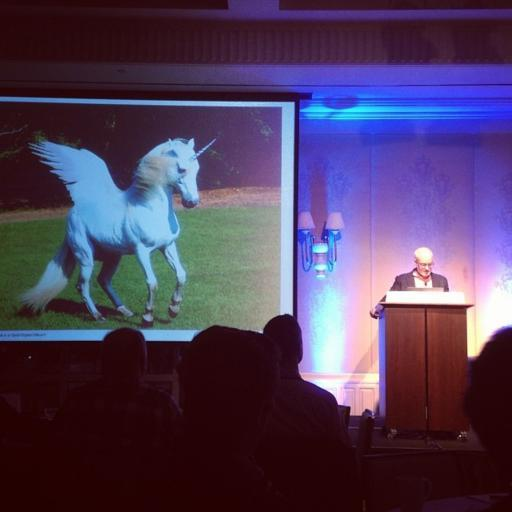Horse: (16, 138, 218, 330)
